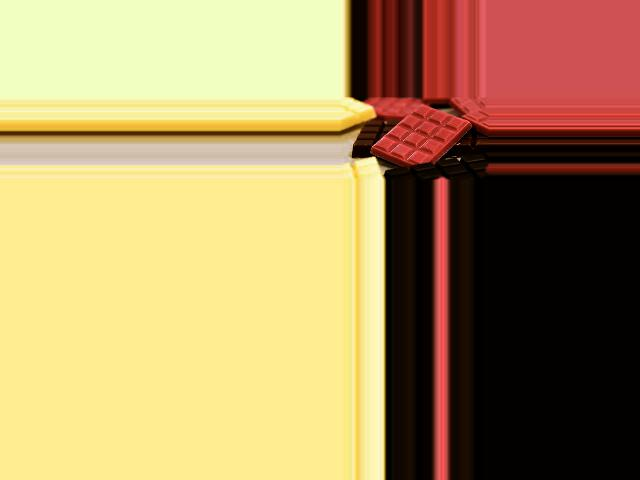chocolate: (372, 101, 472, 180)
